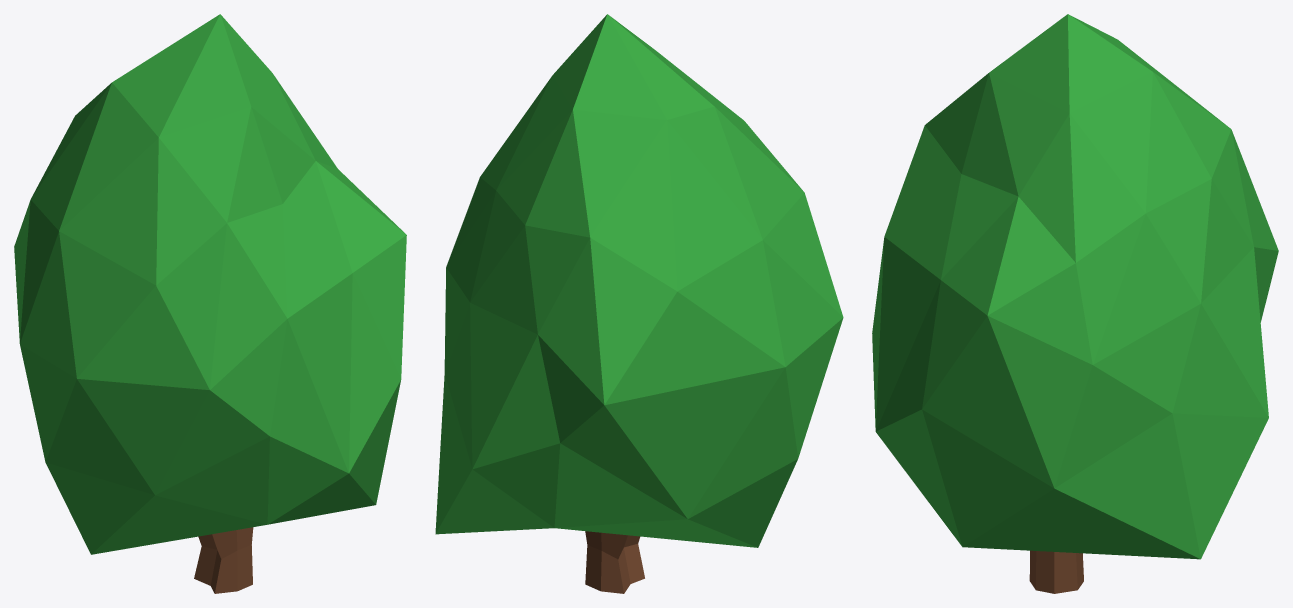
Rendered from Tree_55_Green.fbx.
The picture shows the model from 3 angles, left to right: view 1: azimuth 30°, elevation 25°; view 2: azimuth 150°, elevation 25°; view 3: azimuth 270°, elevation 25°; orthographic projection.
Parts seen in each view (by area): view 1: Tree_55_Green_Part_1, Tree_55_Green_Part_2; view 2: Tree_55_Green_Part_1, Tree_55_Green_Part_2; view 3: Tree_55_Green_Part_1, Tree_55_Green_Part_2.
Part boxes in pixels (<box>): Tree_55_Green_Part_1: <box>14,14,406,554</box>; Tree_55_Green_Part_2: <box>194,527,253,593</box>; Tree_55_Green_Part_1: <box>435,14,843,547</box>; Tree_55_Green_Part_2: <box>585,531,644,593</box>; Tree_55_Green_Part_1: <box>872,14,1278,559</box>; Tree_55_Green_Part_2: <box>1029,550,1083,593</box>.
Bounding box in the file's own units: 515 × 795 × 516.
